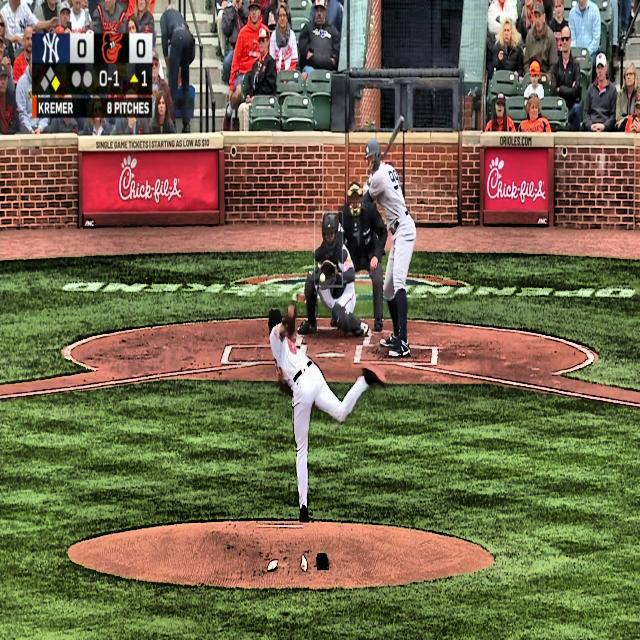baseball: (320, 272, 326, 284)
